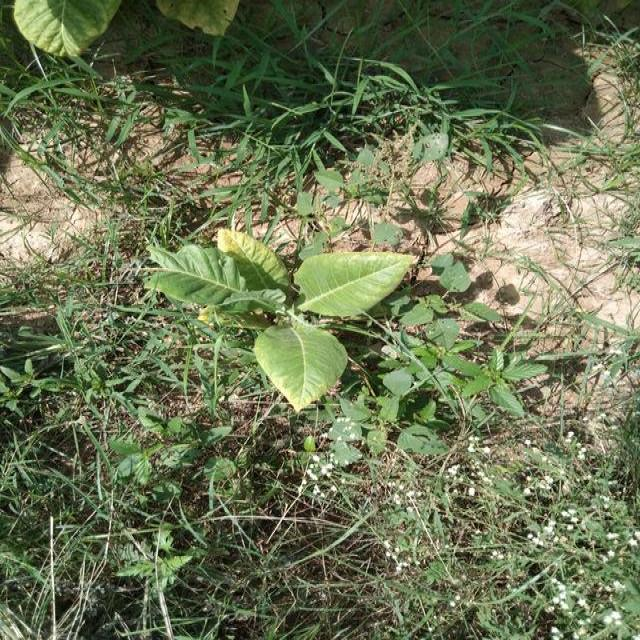crop: (146, 220, 419, 413)
